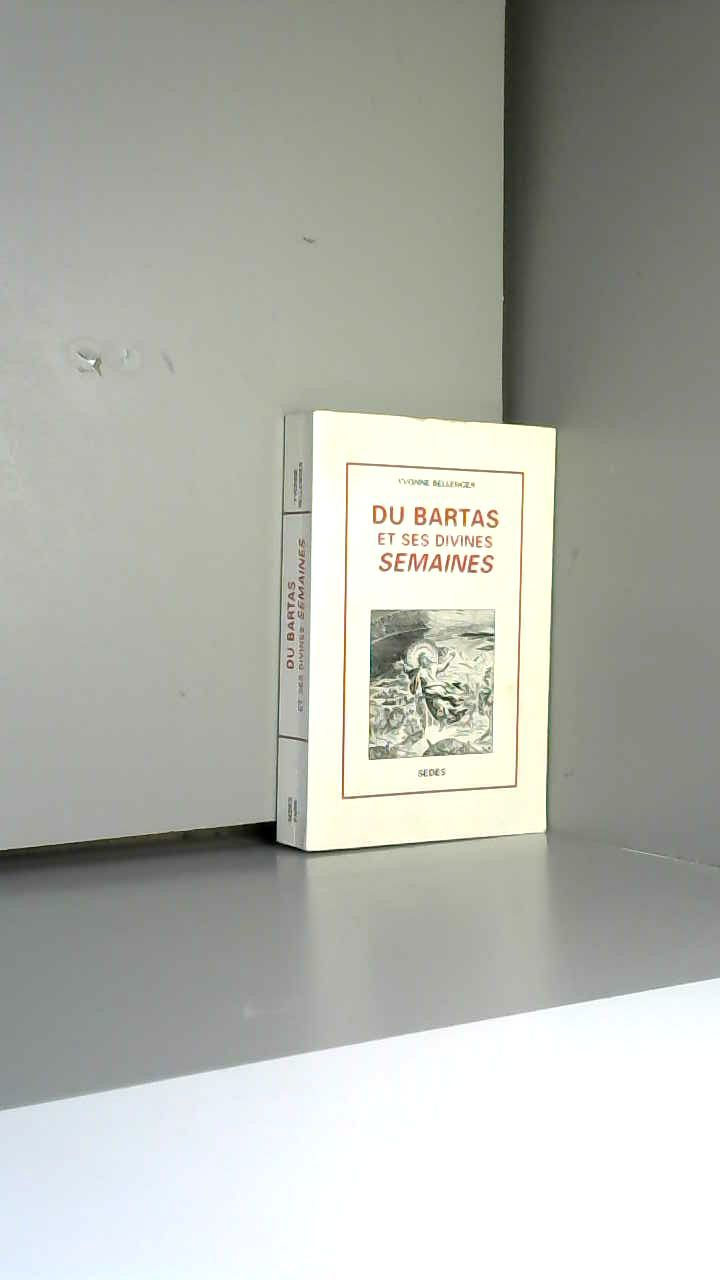book: (255, 370, 587, 892)
